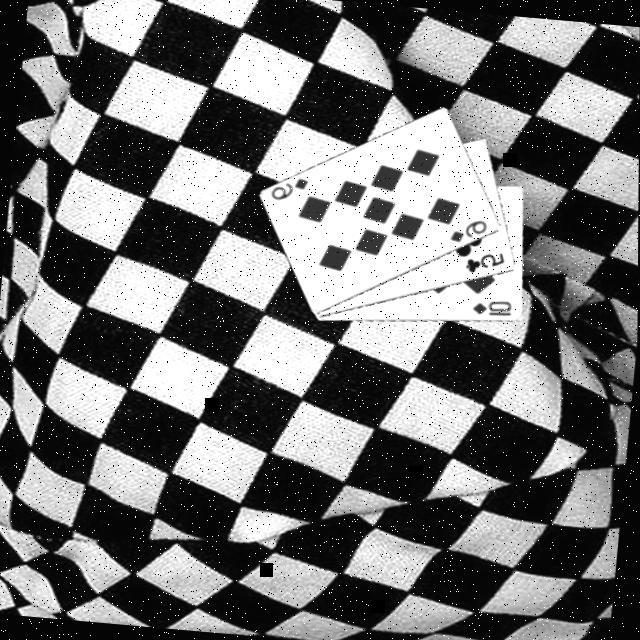10D: (467, 294, 514, 319)
5C: (460, 246, 506, 278)
9D: (445, 213, 488, 246), (266, 171, 309, 204)
